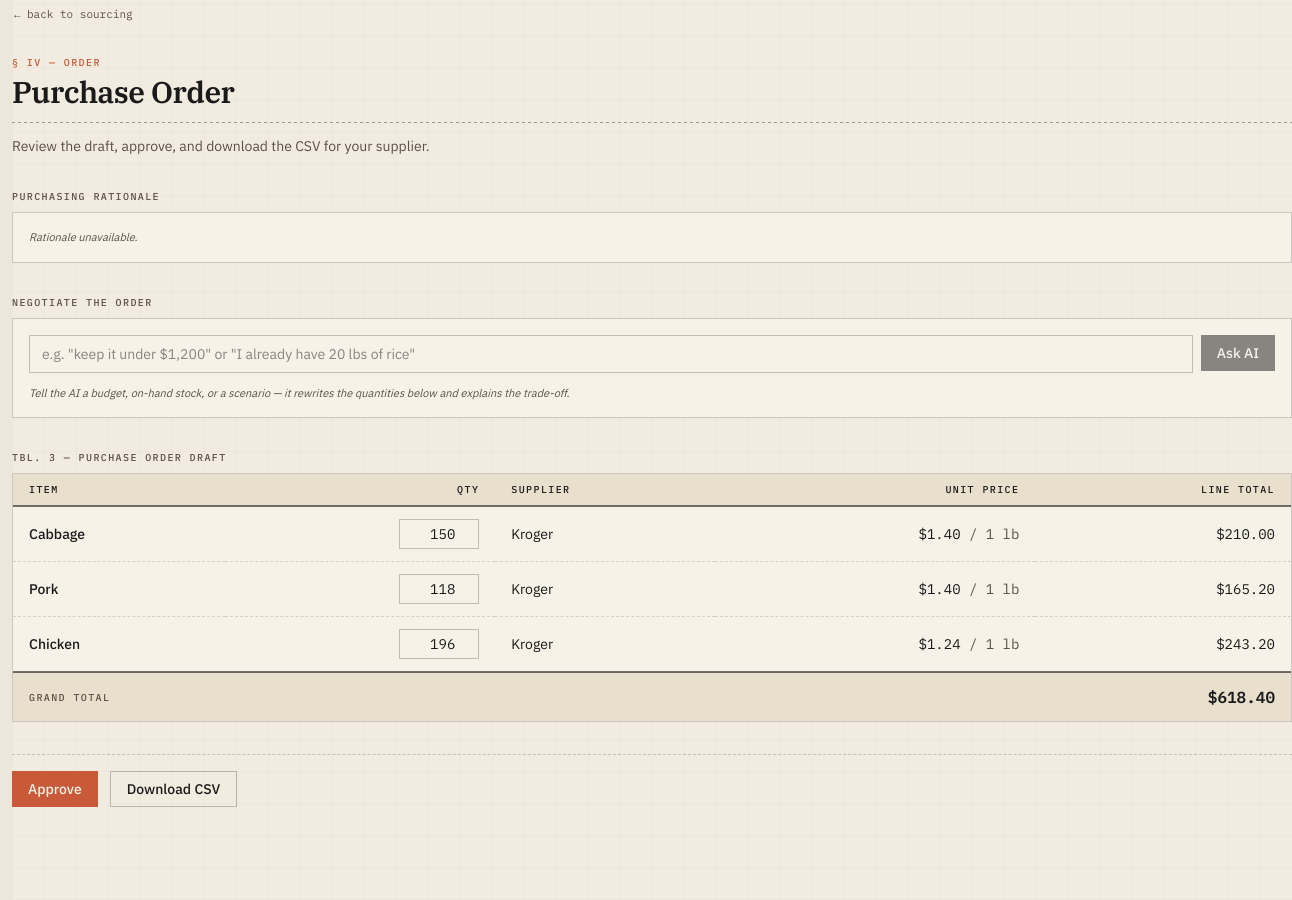
Test case: Order screen › recomputes line and grand totals when a quantity is edited
Replace the text in the number field named "quantity for cabbage" with "100": [439, 534] box [399, 519, 479, 549]
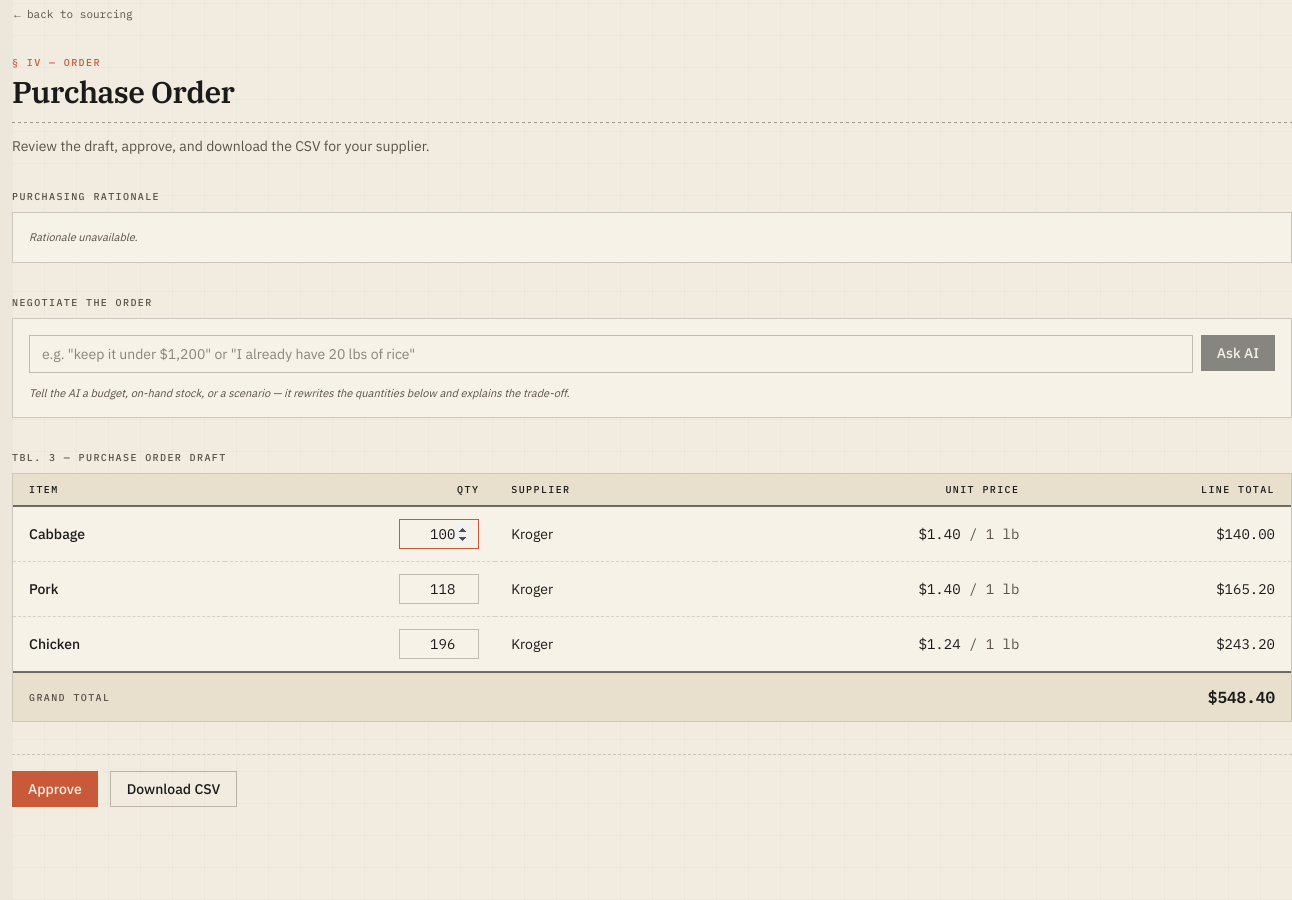
Result: the text "$140.00" is shown at [1035, 506, 1291, 562]
Result: the text "$548.40" is shown at [1035, 672, 1291, 721]
